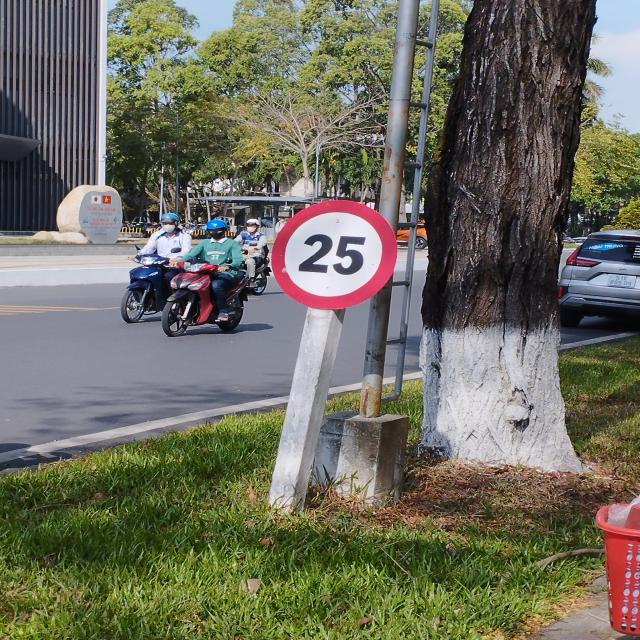Tre_Em: (272, 200, 396, 310)
